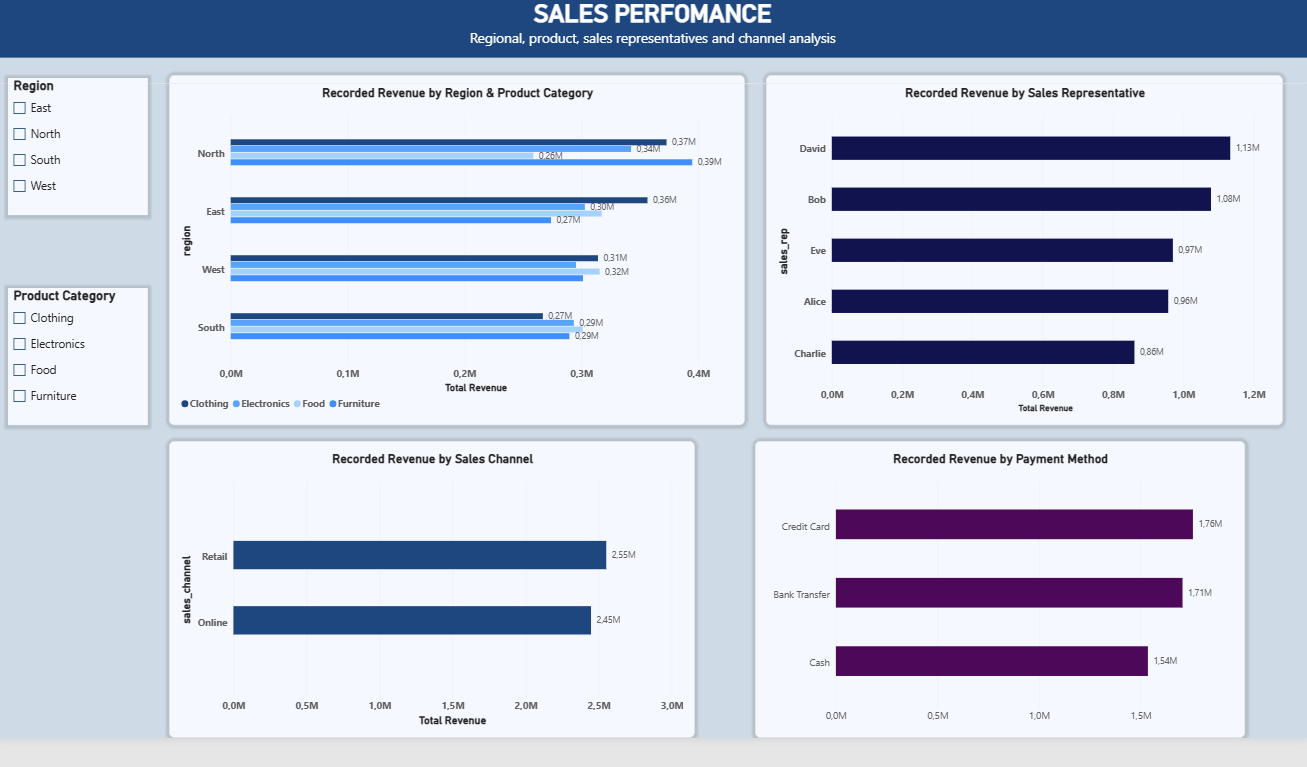

This screenshot's page, from the dashboard's own definition file:
{"tool":"powerbi","page":{"name":"sales performance","canvas":[1920,1080],"ordinal":1},"visuals":[{"type":"clusteredBarChart","title":"Recorded Revenue by Region & Product Category","fields":{"Category":["public sales_dashboard.region"],"Series":["public sales_dashboard.product_category"],"Y":["public sales_dashboard.Total Revenue"]},"box":[255.3,112.3,840.4,510.6],"z":0},{"type":"clusteredBarChart","title":"Recorded Revenue by Sales Representative","fields":{"Category":["public sales_dashboard.sales_rep"],"Y":["public sales_dashboard.Total Revenue"]},"box":[1126.3,112.3,754.3,510.6],"z":1000},{"type":"clusteredBarChart","title":"Recorded Revenue by Sales Channel","fields":{"Category":["public sales_dashboard.sales_channel"],"Y":["public sales_dashboard.Total Revenue"]},"box":[255.3,646.3,767.4,433.3],"z":2000},{"type":"clusteredBarChart","title":"Recorded Revenue by Payment Method","fields":{"Category":["public sales_dashboard.payment_method"],"Y":["public sales_dashboard.Total Revenue"]},"box":[1110.3,646.3,714.9,433.3],"z":3000},{"type":"textbox","title":"SALES PERFOMANCE","box":[0,0,1920,125.5],"z":4001},{"type":"slicer","fields":{"Values":["public sales_dashboard.region"]},"box":[20.4,116.7,204.3,199.9],"z":4002},{"type":"slicer","fields":{"Values":["public sales_dashboard.product_category"]},"box":[20.4,423.1,204.3,199.9],"z":4003}]}

Visuals, with their boxes on the page's 1920x1080 design canvas (x1, y1, x2, y2). These are canvas units, not pixel positions in the 1307x767 screenshot, which may show the page scaled, cropped or inside an application window:
"Recorded Revenue by Region & Product Category" clusteredBarChart: bbox(255, 112, 1096, 623)
"Recorded Revenue by Sales Representative" clusteredBarChart: bbox(1126, 112, 1881, 623)
"Recorded Revenue by Sales Channel" clusteredBarChart: bbox(255, 646, 1023, 1080)
"Recorded Revenue by Payment Method" clusteredBarChart: bbox(1110, 646, 1825, 1080)
"SALES PERFOMANCE" textbox: bbox(0, 0, 1920, 126)
slicer - public sales_dashboard.region: bbox(20, 117, 225, 317)
slicer - public sales_dashboard.product_category: bbox(20, 423, 225, 623)
